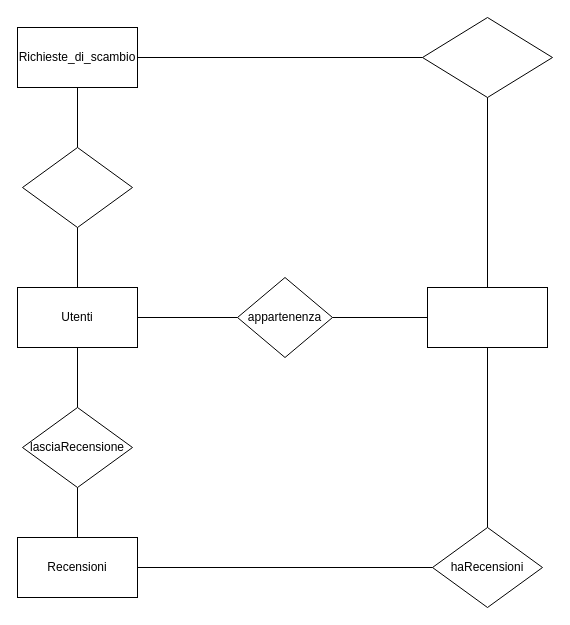
Image size: 570x625. Some labels were removed from this diagram. Here are the shapes that lost their labels. From the top down, the box of each, then its label:
(422, 16, 552, 98): coinvoltoInScambio
(22, 146, 132, 228): effettuaRichiesta
(426, 286, 548, 348): Libri
